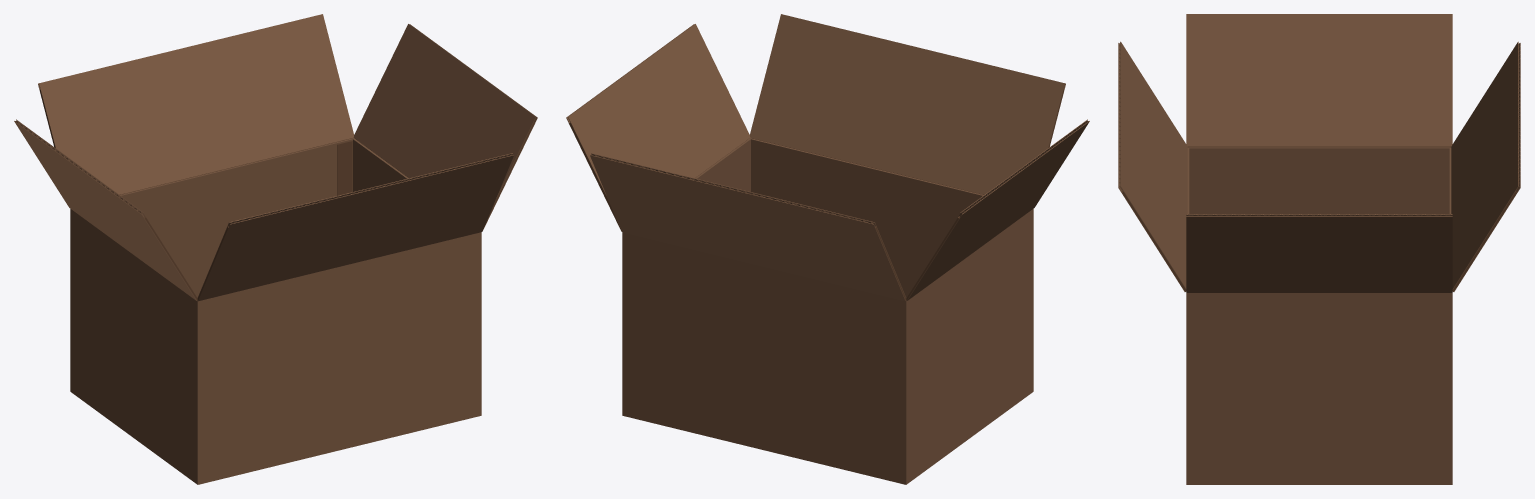
Rendered from cardboard-box-open-9081608a6028.glb.
3 views of the same model, side by side, from view 1: azimuth 30°, elevation 25°; view 2: azimuth 150°, elevation 25°; view 3: azimuth 270°, elevation 25° (orthographic). The views are drawn at different scales.
Visible parts, largest first — view 1: wood-walnut, wood-walnut-dark; view 2: wood-walnut, wood-walnut-dark; view 3: wood-walnut, wood-walnut-dark.
Part boxes in pixels (x1,y1,x2,y2): wood-walnut: (14,14,537,484); wood-walnut-dark: (40,89,534,300); wood-walnut: (566,14,1089,484); wood-walnut-dark: (569,89,1063,300); wood-walnut: (1118,14,1520,484); wood-walnut-dark: (1122,146,1516,291).
Size of the model in its own units: 0.6285 by 0.4326 by 0.5285.
